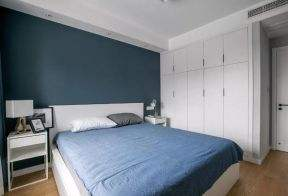床: (39, 122, 247, 194)
枕头: (63, 109, 142, 133)
灯: (5, 99, 34, 133), (146, 97, 160, 121)
